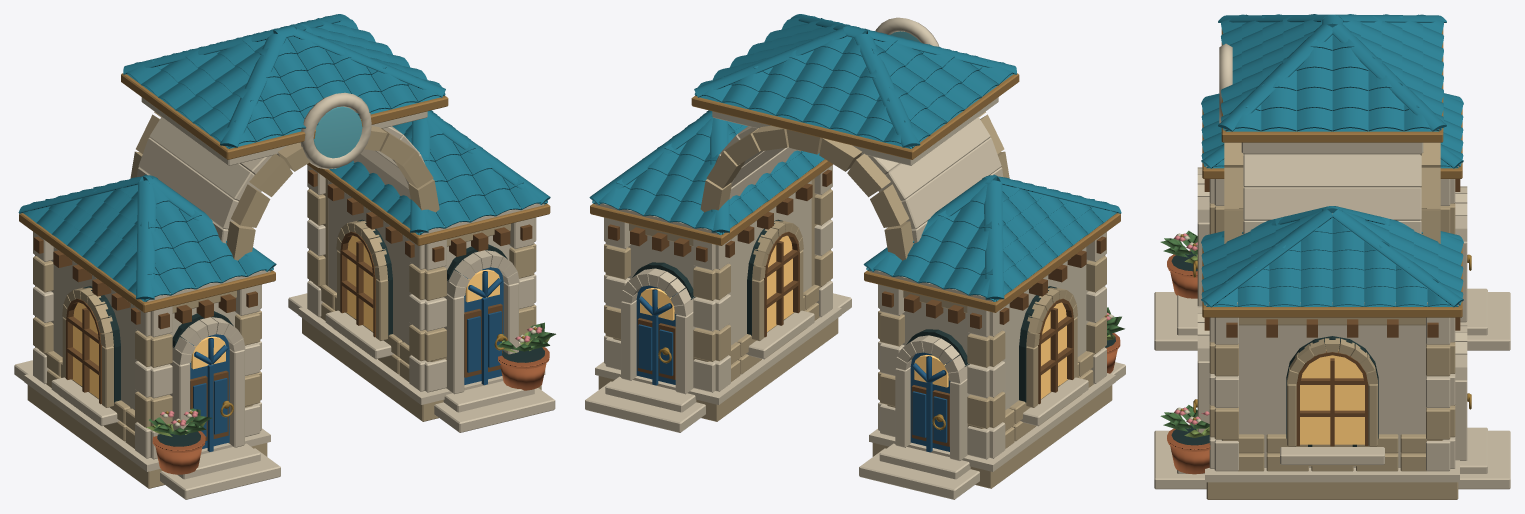
3 views of the same model, side by side, from view 1: azimuth 30°, elevation 25°; view 2: azimuth 150°, elevation 25°; view 3: azimuth 270°, elevation 25° (orthographic). The views are drawn at different scales.
Parts seen in each view (by area): view 1: harbor_teleport_gate_geometry, harbor_teleport_gate_geometry ceramic; view 2: harbor_teleport_gate_geometry, harbor_teleport_gate_geometry ceramic; view 3: harbor_teleport_gate_geometry, harbor_teleport_gate_geometry ceramic.
Boxes of the visible parts, box(x1,y1,x2,y2) form: harbor_teleport_gate_geometry: box(14, 73, 555, 499); harbor_teleport_gate_geometry ceramic: box(18, 14, 550, 301); harbor_teleport_gate_geometry: box(585, 17, 1125, 499); harbor_teleport_gate_geometry ceramic: box(589, 14, 1121, 301); harbor_teleport_gate_geometry: box(1154, 29, 1510, 499); harbor_teleport_gate_geometry ceramic: box(1201, 14, 1463, 307).
Size of the model in its own units: 1.04 by 0.8775 by 0.7418.
